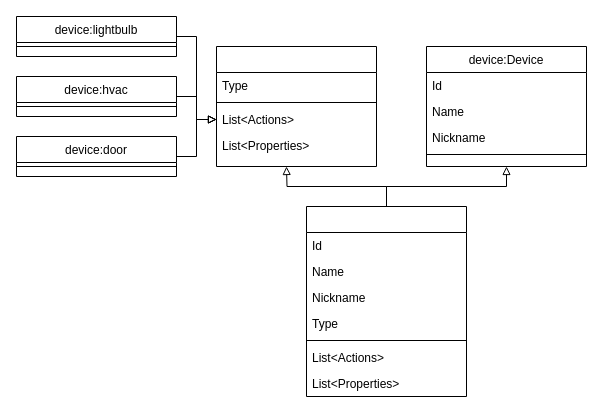
Image size: 603x413. Some labels were removed from this diagram. The box of each missing label's shape, as (x1, y1, x2, y2) in pixels:
device:UUID: (306, 206, 466, 396)
saref:Device: (216, 46, 376, 166)
